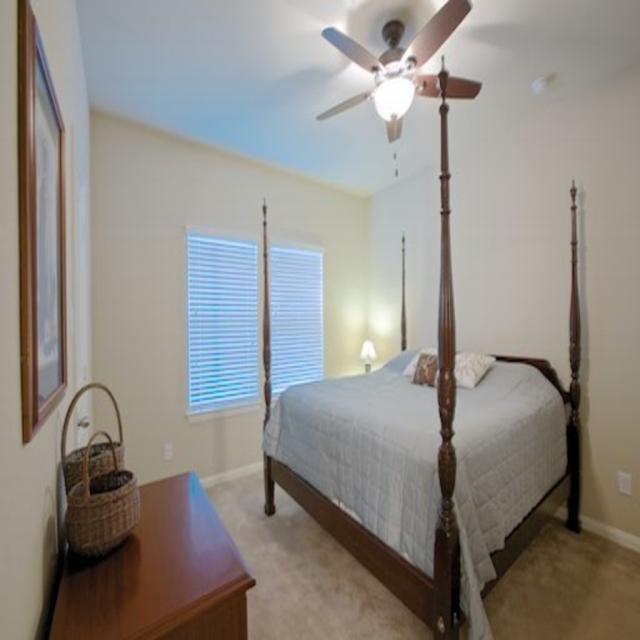fan_off: (311, 0, 484, 145)
